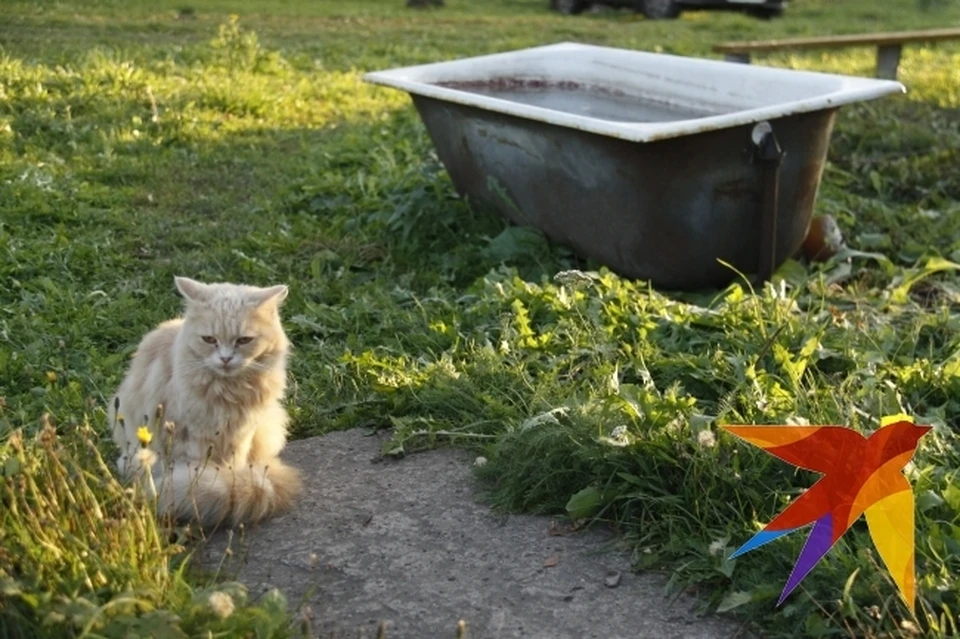cat: (91, 275, 321, 555)
